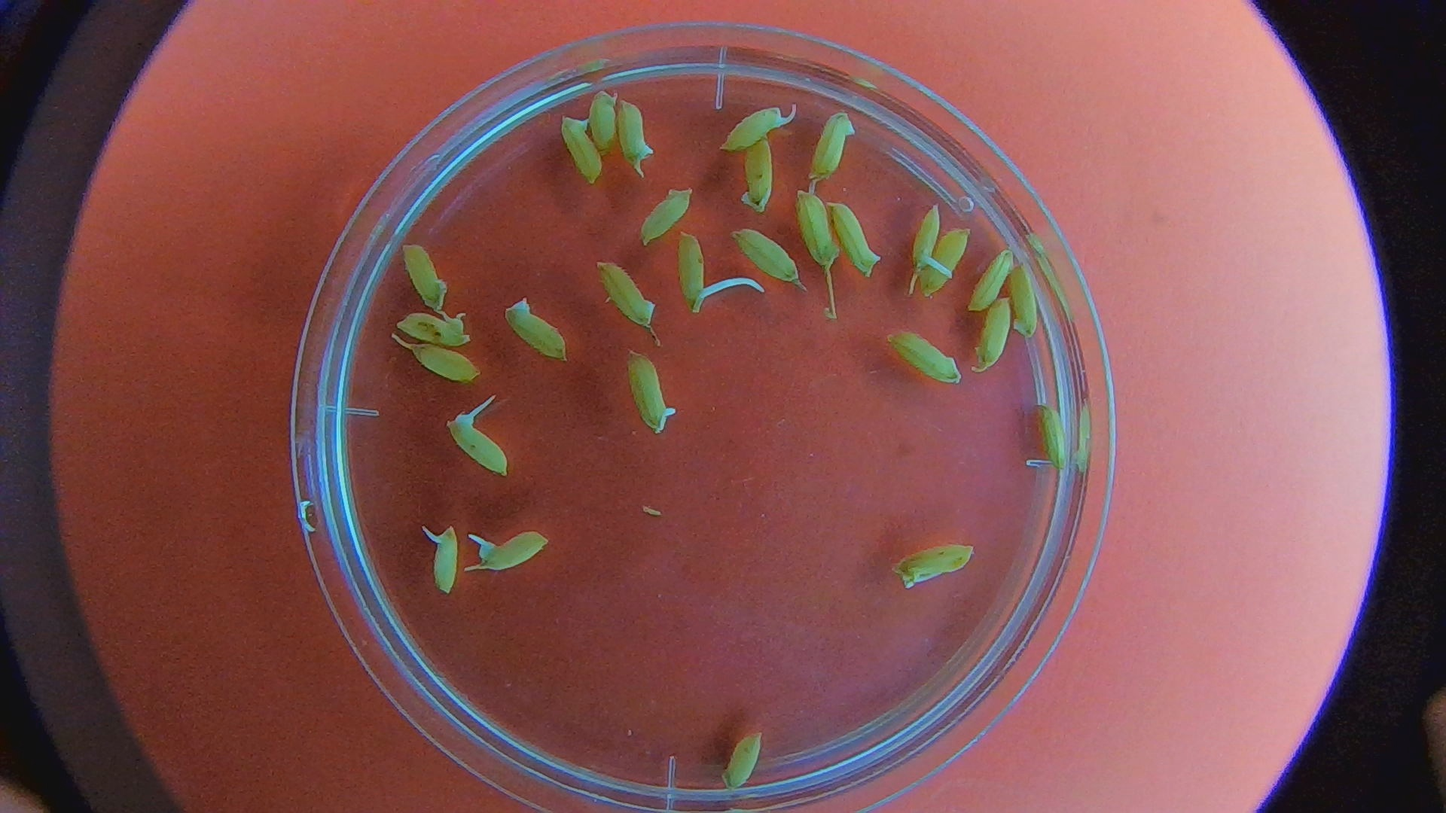no: (621, 346, 679, 435), (496, 291, 569, 361), (793, 188, 844, 288), (884, 326, 963, 388), (592, 257, 657, 329), (830, 199, 885, 278), (886, 546, 979, 592), (732, 223, 804, 282), (557, 112, 612, 181), (807, 111, 853, 189), (401, 342, 483, 384), (398, 242, 449, 309), (965, 245, 1014, 311), (642, 187, 692, 247), (718, 729, 766, 791), (616, 99, 654, 174), (395, 312, 471, 349), (975, 297, 1011, 374), (923, 230, 966, 294), (1005, 260, 1039, 336), (740, 136, 774, 209), (585, 89, 621, 157), (1039, 397, 1068, 475)
yes: (446, 414, 510, 479), (722, 99, 791, 147), (474, 531, 551, 570), (675, 230, 711, 310), (911, 196, 939, 271), (431, 522, 459, 594)
